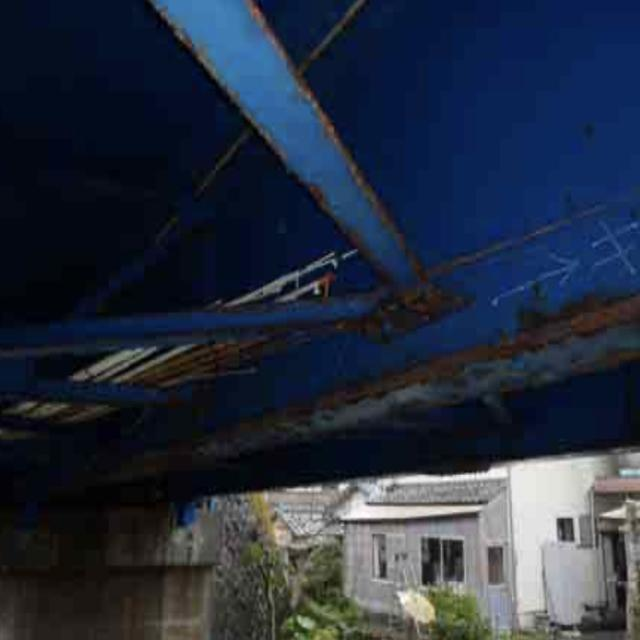corrosion: (336, 235, 628, 398), (225, 10, 402, 223)
